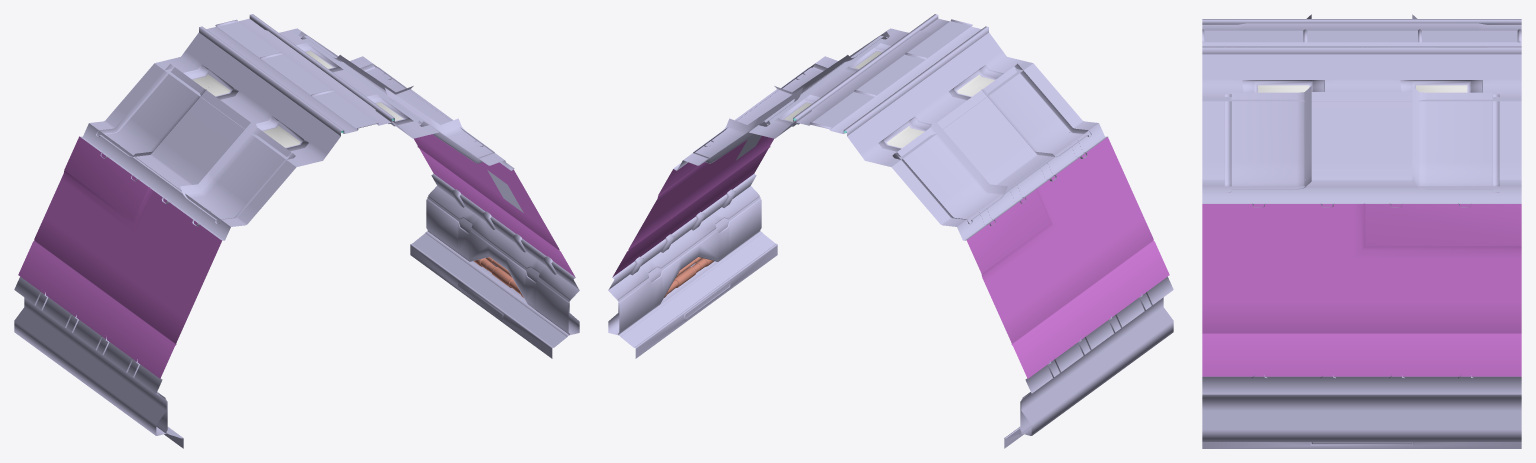
The model's file is HallEnd.fbx.
3 views of the same model, side by side, from view 1: azimuth 30°, elevation 25°; view 2: azimuth 150°, elevation 25°; view 3: azimuth 270°, elevation 25° (orthographic). The views are drawn at different scales.
Visible parts, largest first — view 1: HallEnd; view 2: HallEnd; view 3: HallEnd.
Part boxes in pixels (x1=…): HallEnd: x1=14, y1=14, x2=579, y2=448; HallEnd: x1=608, y1=14, x2=1173, y2=448; HallEnd: x1=1202, y1=14, x2=1521, y2=448.
Size of the model in its own units: 8.05 by 5.04 by 4.65.
